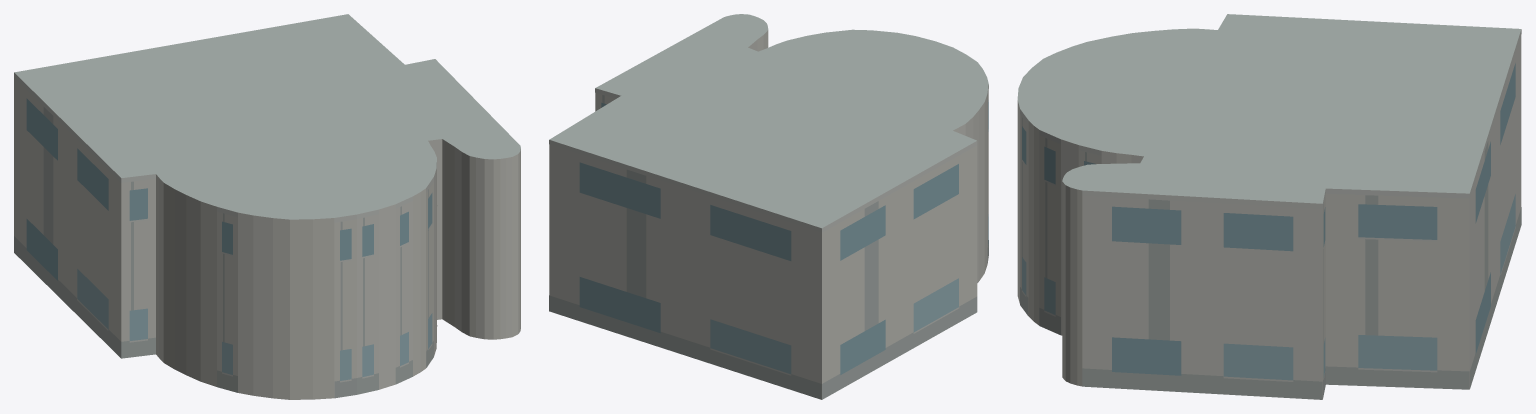
The model's file is survey-upis-32978659.glb.
3 renders of one model, left to right at view 1: azimuth 30°, elevation 25°; view 2: azimuth 150°, elevation 25°; view 3: azimuth 270°, elevation 25°, orthographic. The views are drawn at different scales.
Parts seen in each view (by area): view 1: survey-upis-32978659.tmp; view 2: survey-upis-32978659.tmp; view 3: survey-upis-32978659.tmp.
Part boxes in pixels (<box>): survey-upis-32978659.tmp: <box>14,14,520,399</box>; survey-upis-32978659.tmp: <box>549,14,988,399</box>; survey-upis-32978659.tmp: <box>1017,14,1521,399</box>.
Size of the model in its own units: 19.01 by 9.15 by 21.32.
